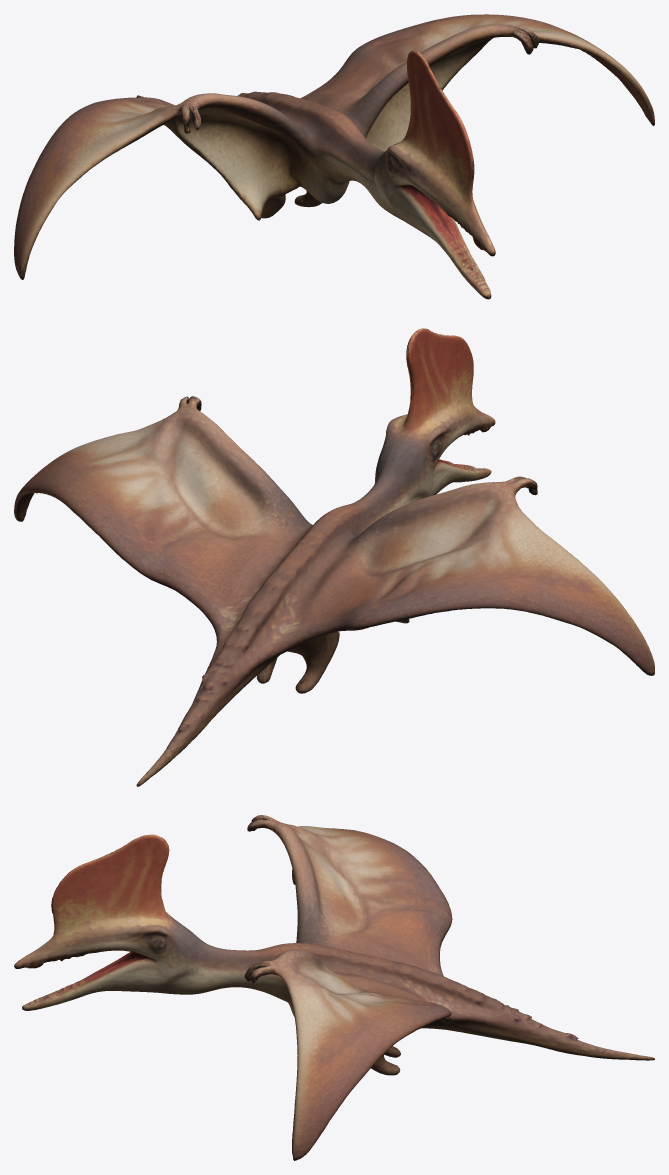
3 views of the same model, one above another, from view 1: azimuth 30°, elevation 25°; view 2: azimuth 150°, elevation 25°; view 3: azimuth 270°, elevation 25° (orthographic). The views are drawn at different scales.
Visible parts, largest first — view 1: world; view 2: world; view 3: world.
Boxes of the visible parts, x1,y1,x2,y2 form: world: [14, 14, 654, 299]; world: [14, 328, 654, 786]; world: [14, 815, 654, 1160].
Bounding box in the file's own units: 2.2 × 0.8544 × 2.15.
Materials: 1 (1 with a texture image).
